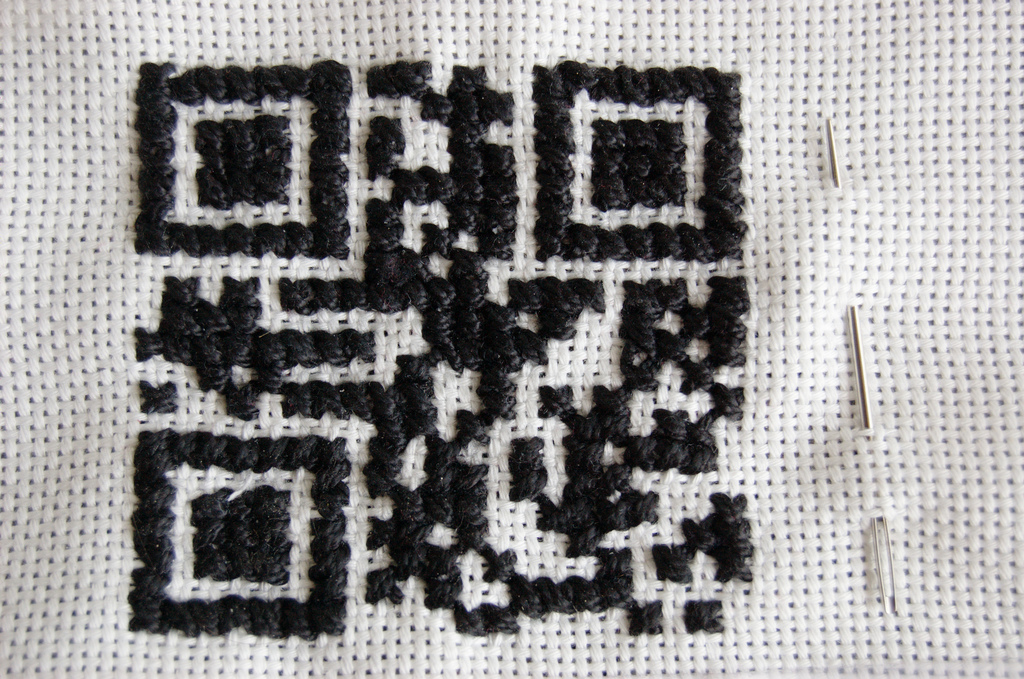QR-CODE: (128, 62, 750, 637)
